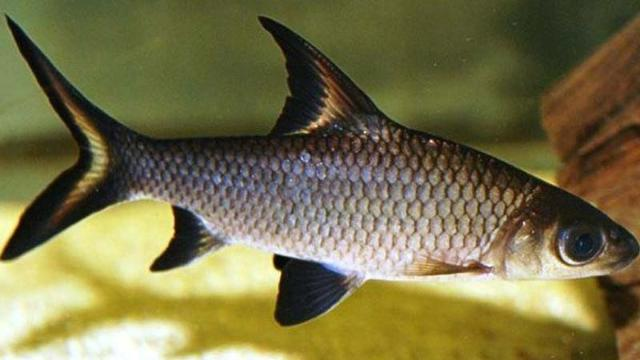Mulut: (554, 217, 640, 295)
Sirip Anal: (142, 197, 240, 289)
Sirip Dada: (391, 242, 505, 294)
Sirip Ekor: (0, 6, 146, 296)
Sirip Perut: (262, 238, 378, 346)
Sirip Punggung: (248, 6, 426, 164)
